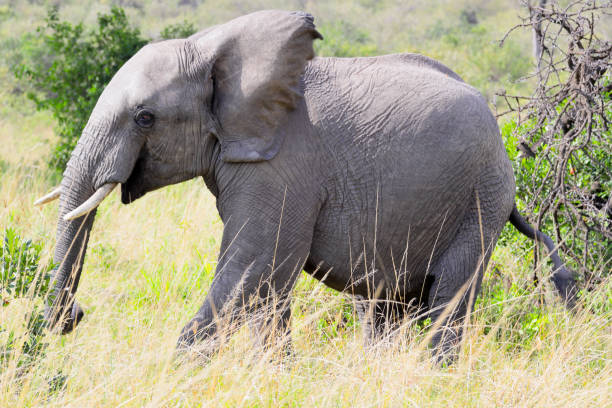africanelephant: (26, 22, 311, 255)
